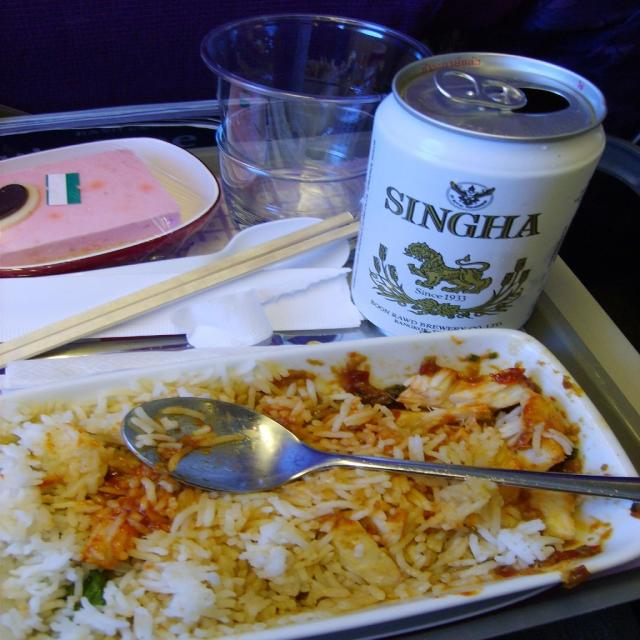singha: (355, 178, 569, 326)
